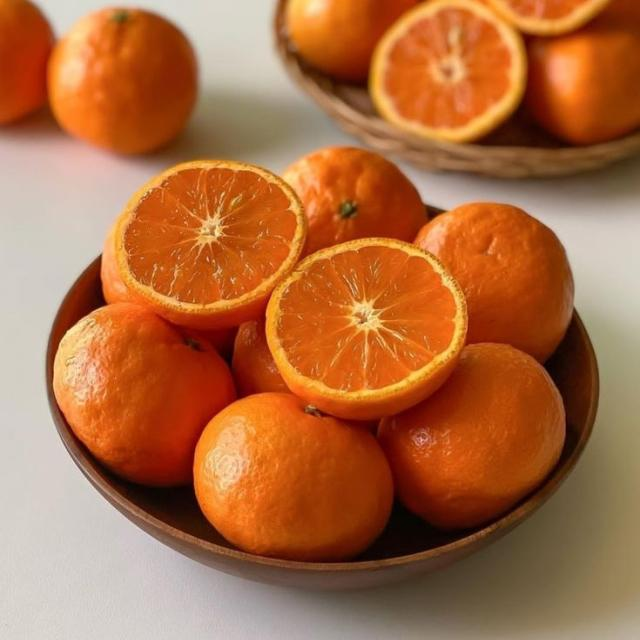orange: (266, 239, 466, 420), (379, 344, 565, 529), (194, 394, 393, 561), (54, 303, 235, 486), (115, 160, 306, 329), (416, 203, 573, 361), (370, 0, 526, 141), (48, 8, 197, 153), (526, 2, 639, 144), (283, 147, 426, 253), (286, 0, 417, 82), (0, 0, 53, 124), (489, 0, 610, 36), (232, 320, 289, 396), (101, 222, 134, 303), (101, 223, 133, 303), (193, 328, 237, 362), (600, 0, 640, 23)
